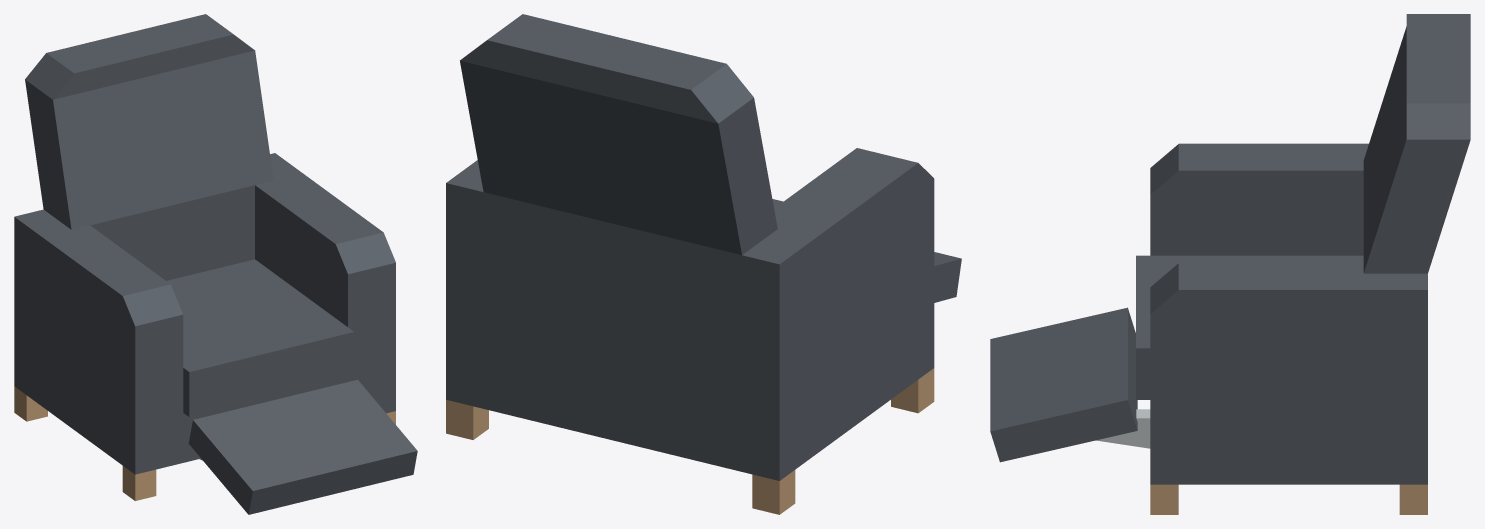
Rendered from armchair-recliner.glb.
3 views of the same model, side by side, from view 1: azimuth 30°, elevation 25°; view 2: azimuth 150°, elevation 25°; view 3: azimuth 270°, elevation 25° (orthographic). The views are drawn at different scales.
Parts seen in each view (by area): view 1: armchair-recliner; view 2: armchair-recliner; view 3: armchair-recliner.
Part boxes in pixels (x1=…): armchair-recliner: x1=14, y1=14, x2=417, y2=514; armchair-recliner: x1=446, y1=14, x2=961, y2=514; armchair-recliner: x1=990, y1=14, x2=1470, y2=514.
Bounding box in the file's own units: 0.9 × 1.1 × 1.25.
